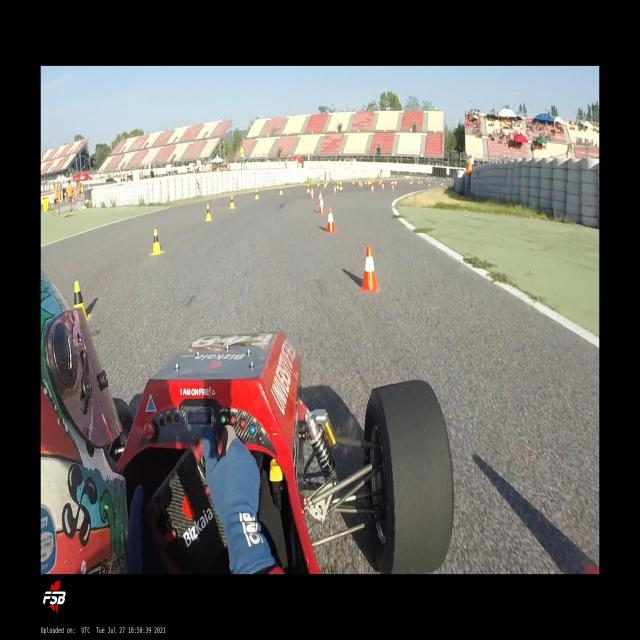orange_cone: (359, 245, 380, 292), (326, 207, 336, 233), (318, 190, 323, 207), (320, 200, 324, 214), (310, 188, 314, 200), (333, 184, 337, 195), (370, 184, 374, 193), (381, 183, 384, 190), (392, 184, 394, 192)
yellow_cone: (73, 281, 90, 320), (150, 228, 163, 255), (205, 204, 213, 221), (230, 194, 236, 208), (255, 188, 259, 200), (279, 185, 283, 195), (307, 184, 310, 192), (310, 178, 314, 183), (340, 182, 342, 190), (337, 181, 339, 188), (325, 179, 327, 186), (324, 180, 326, 187), (317, 180, 319, 186), (352, 178, 354, 184)
